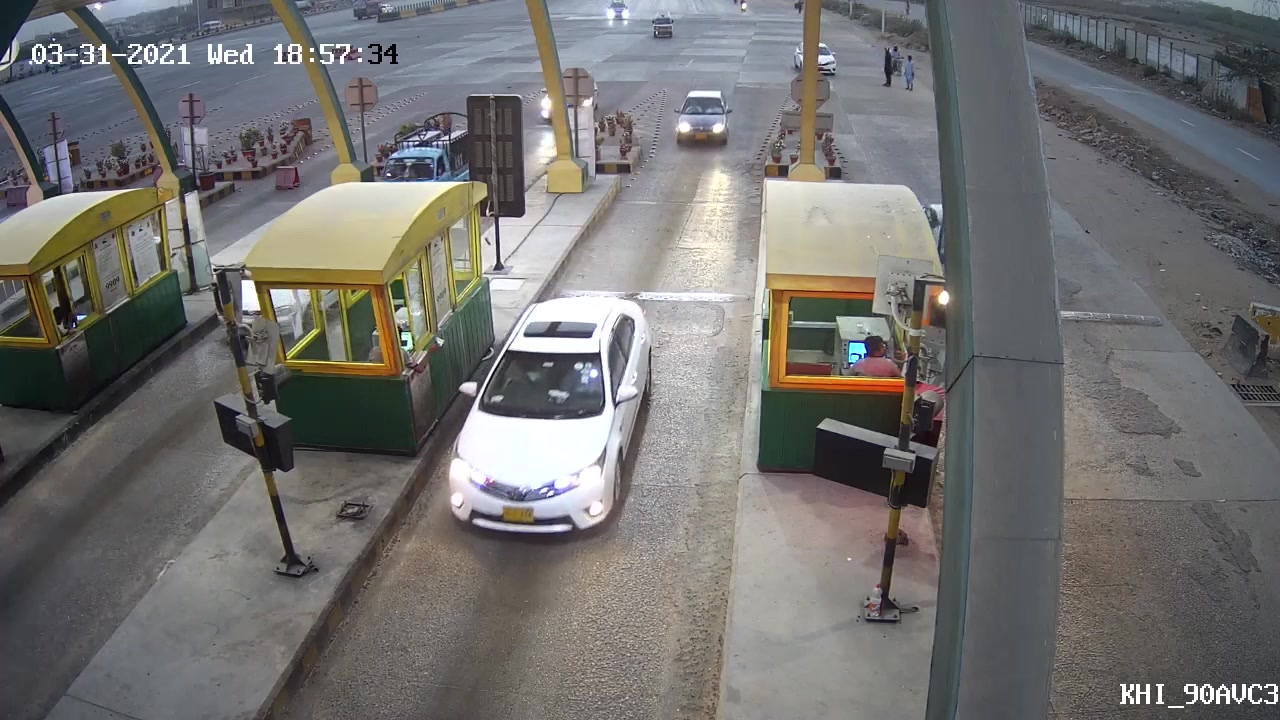F1: (444, 292, 660, 534)
